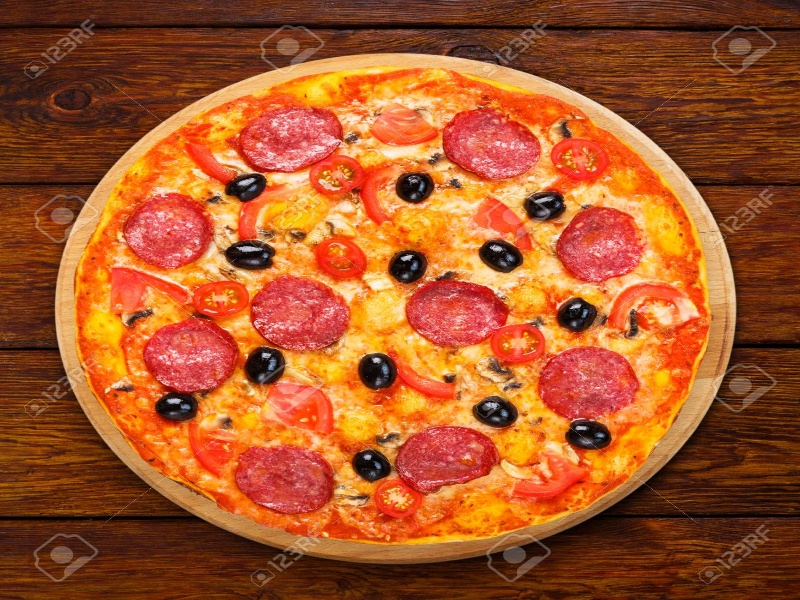olive noir: (561, 416, 613, 451), (357, 348, 399, 390), (479, 236, 523, 274), (350, 448, 398, 482), (224, 241, 278, 271), (523, 186, 568, 222), (469, 395, 518, 427), (221, 172, 269, 203), (397, 168, 435, 206), (384, 249, 425, 283)
pepperonis: (228, 439, 342, 512), (138, 315, 242, 394), (440, 110, 543, 184), (250, 276, 352, 350), (402, 277, 511, 346), (118, 193, 214, 270), (236, 106, 346, 172), (559, 206, 654, 281), (539, 346, 640, 416), (393, 425, 498, 491)
